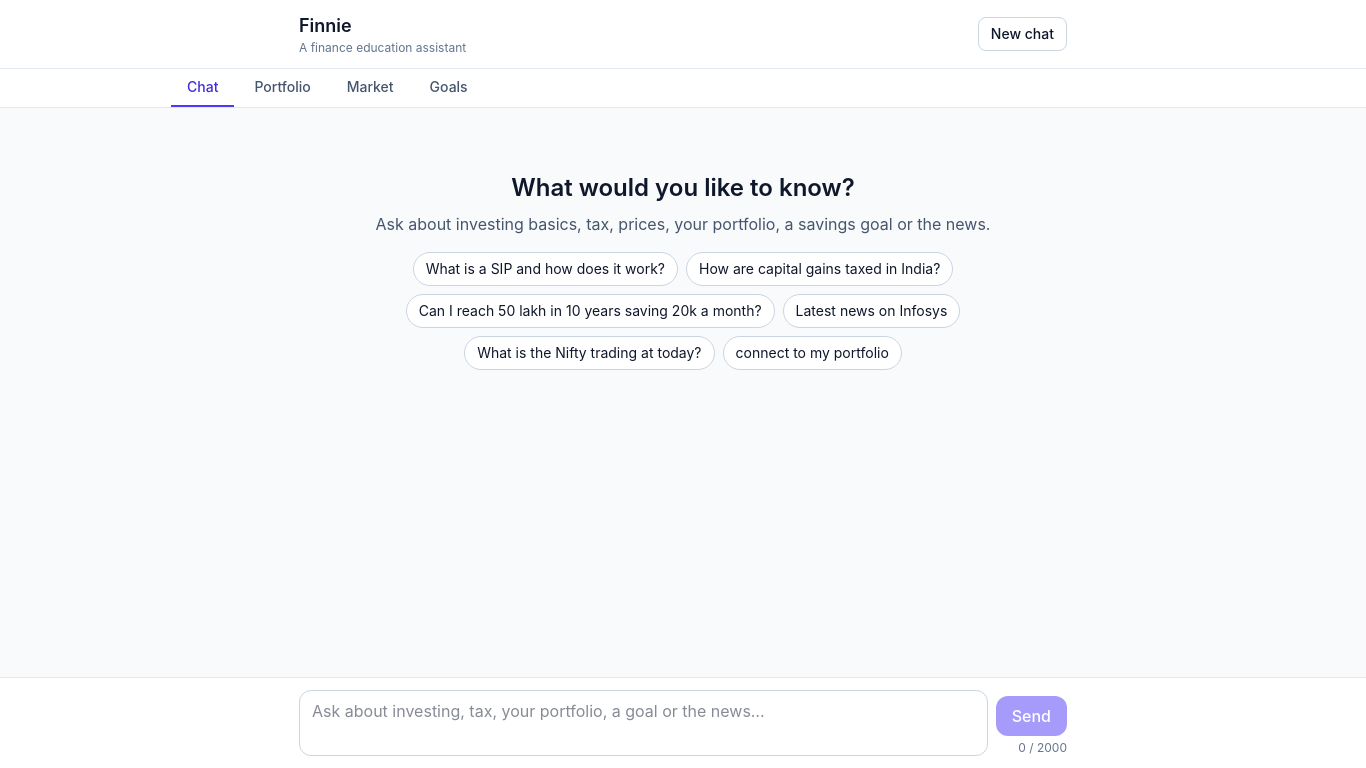
Test: App: the sections › does not load market prices until the Market tab is opened
What coordinates should you click on to do the following:
click the tab "Market"
I would click on:
 (370, 88)
Its box is [331,69,410,107].
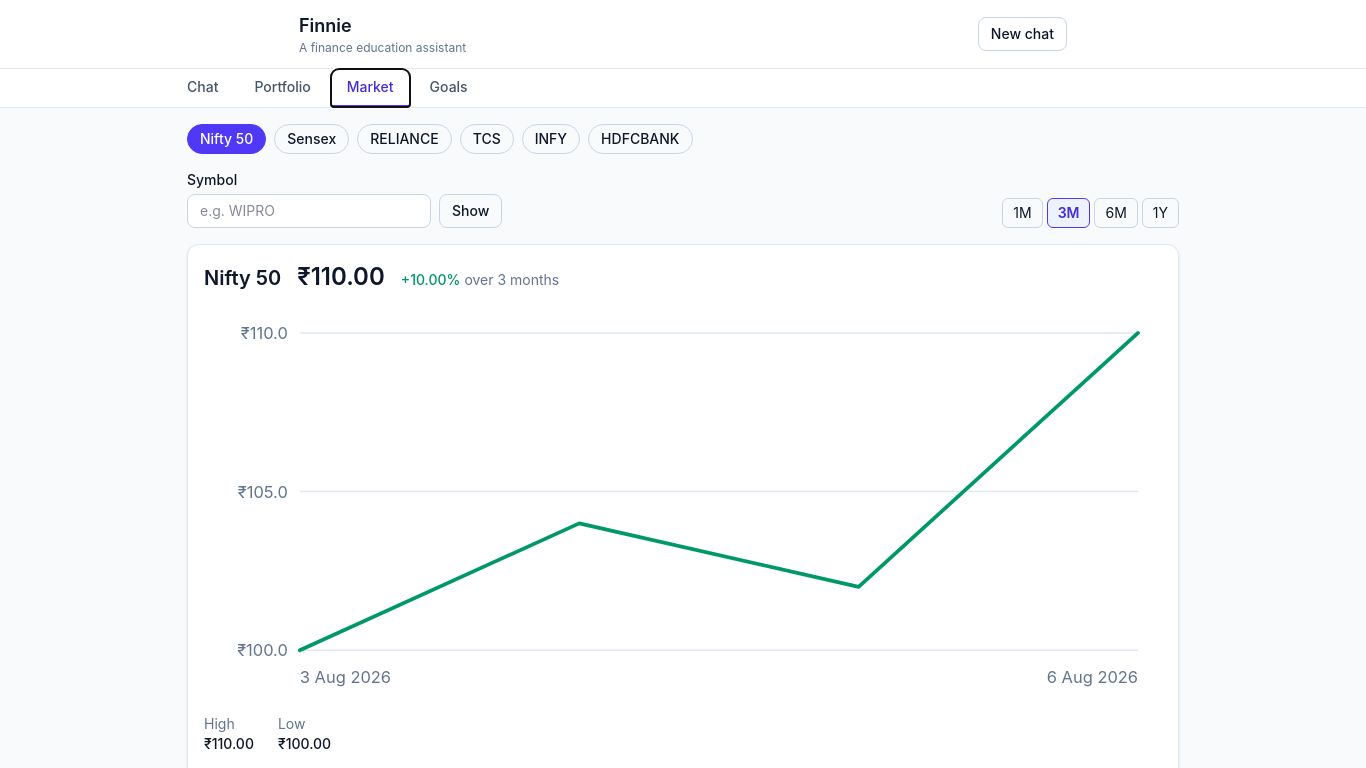
Check: the heading "Nifty 50" is shown, box [204,264,281,292]
